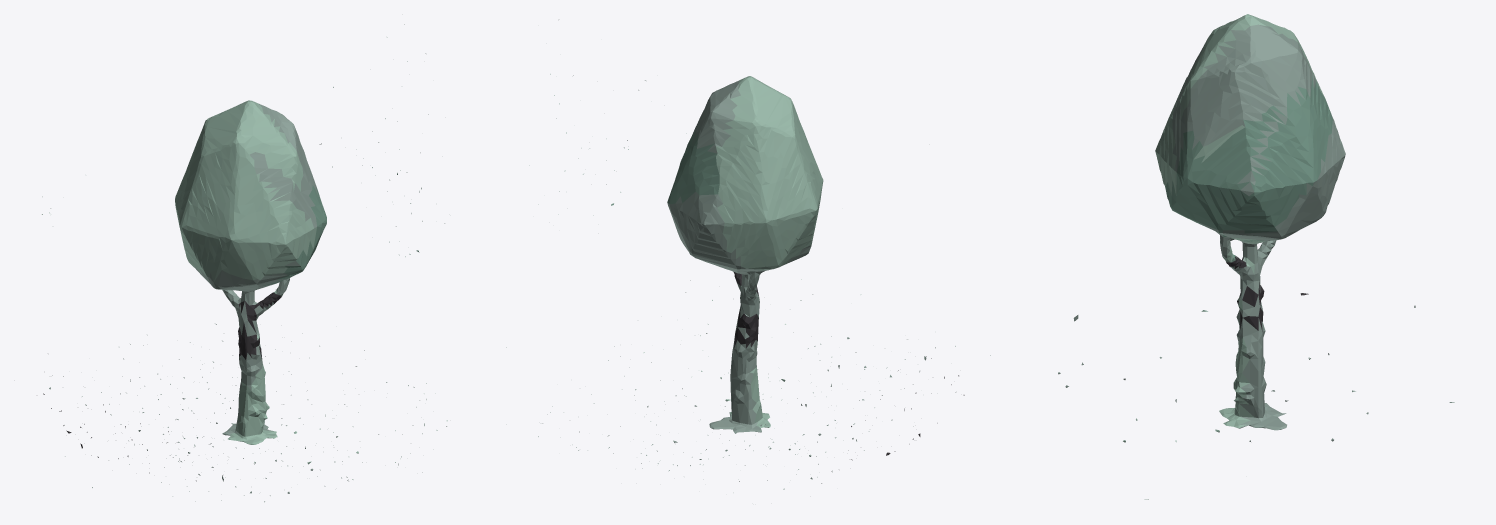
The model's file is tree_birch.glb.
The picture shows the model from 3 angles, left to right: view 1: azimuth 30°, elevation 25°; view 2: azimuth 150°, elevation 25°; view 3: azimuth 270°, elevation 25°; orthographic projection. The views are drawn at different scales.
Parts seen in each view (by area): view 1: geometry_0; view 2: geometry_0; view 3: geometry_0.
Part boxes in pixels (x1,y1,x2,y2): geometry_0: (42,24,447,502); geometry_0: (506,74,990,492); geometry_0: (1058,14,1454,499).
Size of the model in its own units: 1.98 by 1.98 by 1.85.
